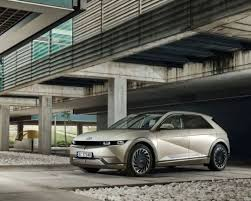Honda Ioniq: (61, 105, 231, 179)
